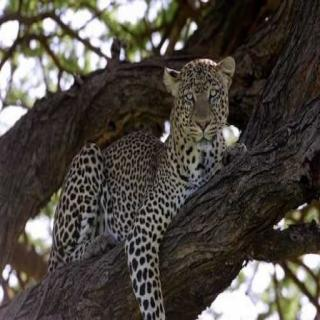Leopard: (63, 48, 242, 312)
